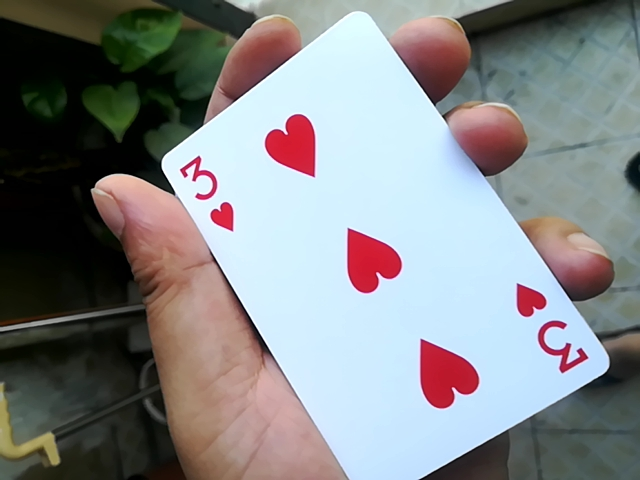hx 3: (151, 18, 599, 480)
